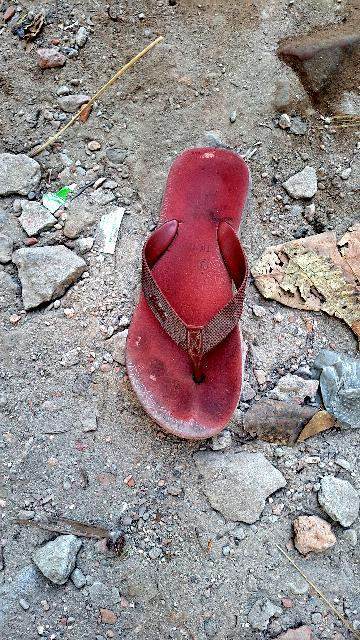sandal: (101, 142, 289, 460)
